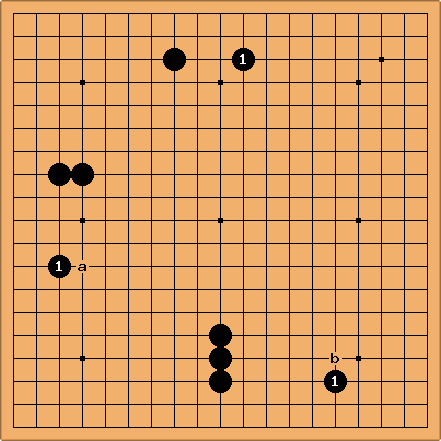black: (161, 46, 185, 70), (50, 165, 66, 181), (73, 165, 89, 181), (212, 327, 228, 343), (212, 350, 228, 366), (212, 373, 228, 389)
